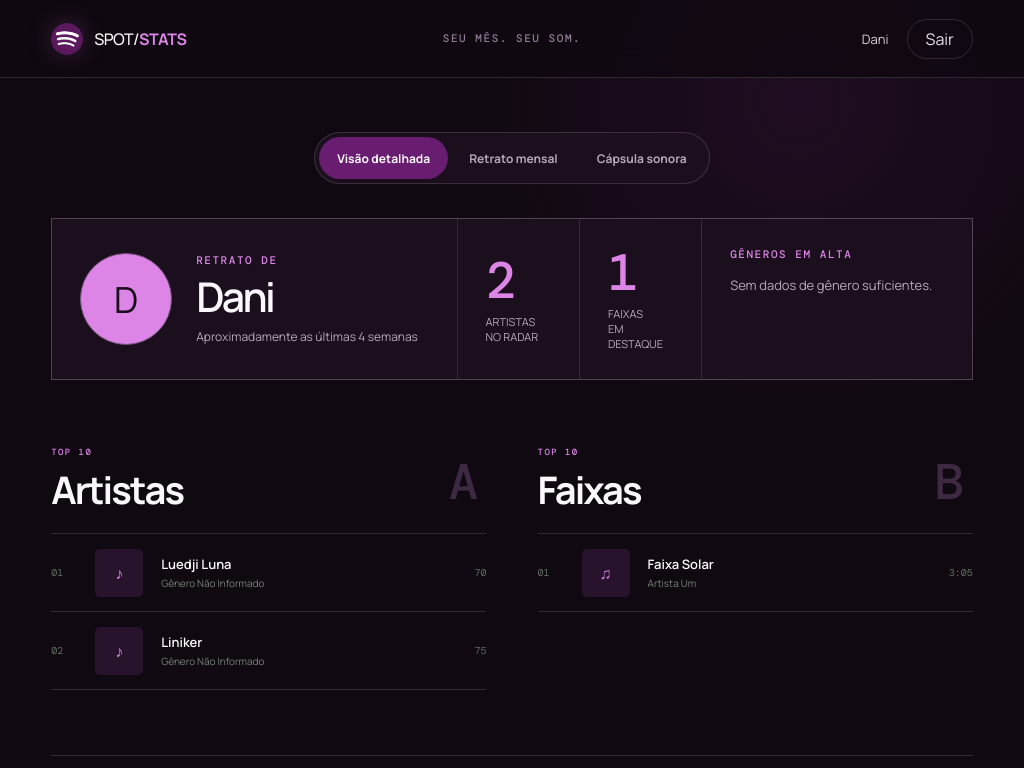
Test: SpotStatsPage › mantém o retrato legível sem imagens nem gêneros
Click the tab "Retrato mensal" at x=513, y=158, box [451,137,576,179]
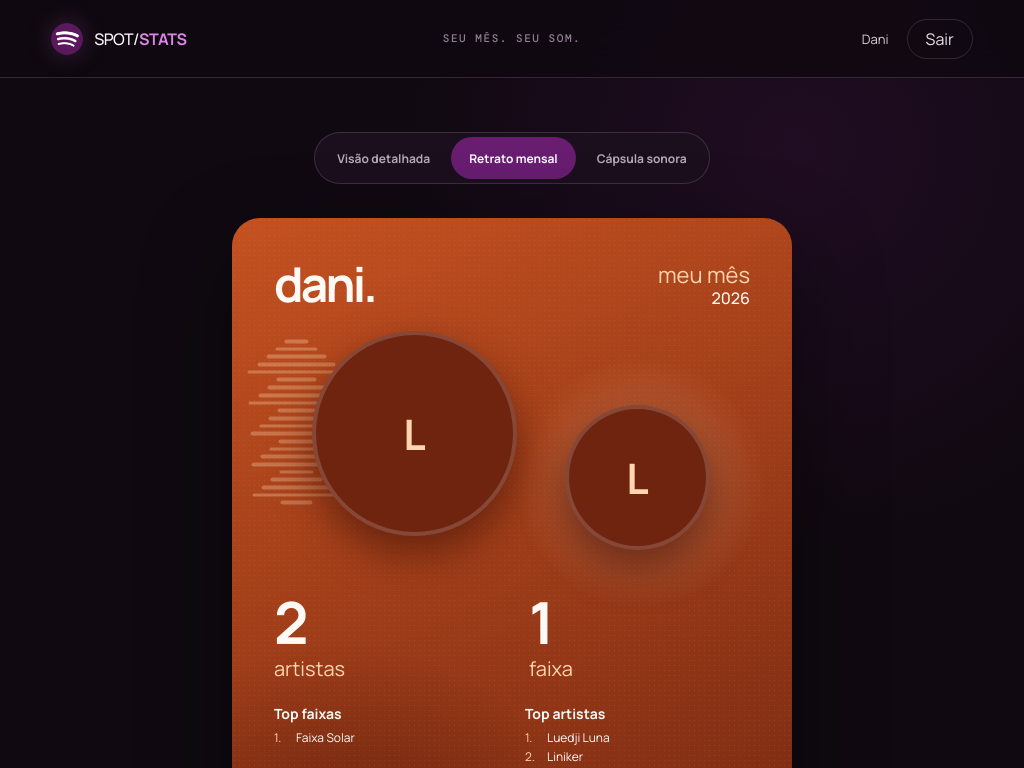
Check: the 1st text "L" is shown, box [403,405,426,463]
